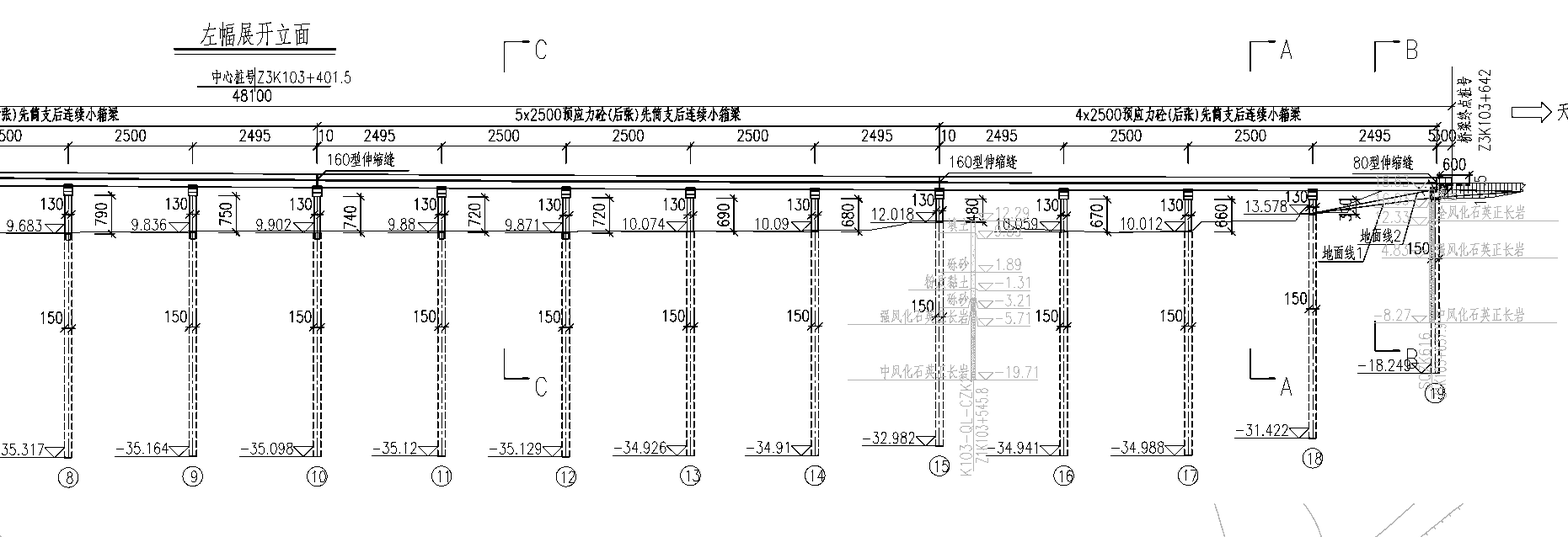B: (933, 94, 1447, 141)
C: (109, 177, 215, 493), (1104, 180, 1210, 493), (484, 178, 588, 496), (606, 179, 711, 493), (236, 177, 338, 492), (859, 178, 961, 484), (366, 178, 463, 494), (738, 181, 836, 492), (1230, 181, 1332, 476), (1, 175, 89, 497), (994, 181, 1084, 491), (1350, 188, 1460, 412), (487, 179, 587, 403)
